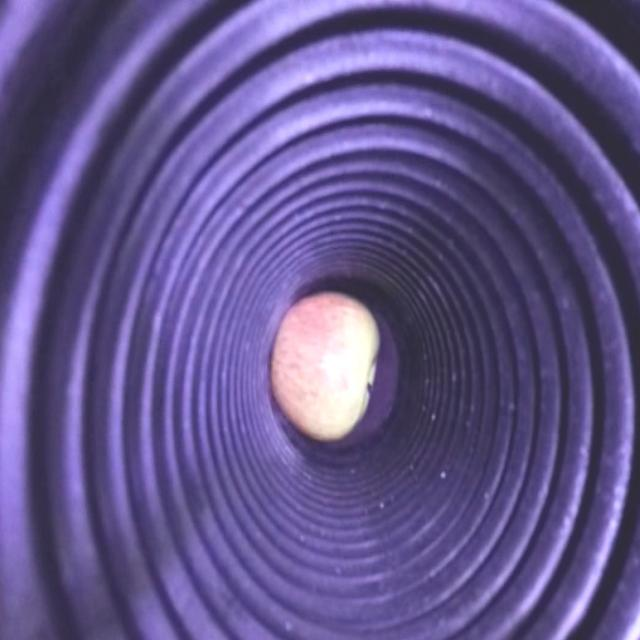obstacles: (270, 294, 382, 446)
